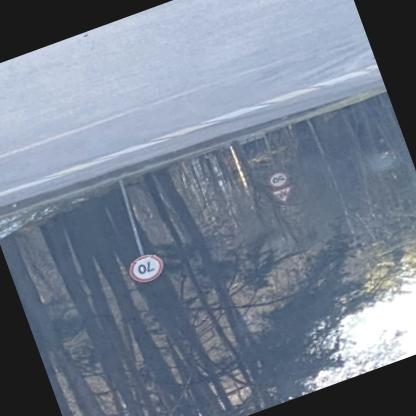speedlimit: (128, 251, 168, 286), (270, 170, 292, 188)
